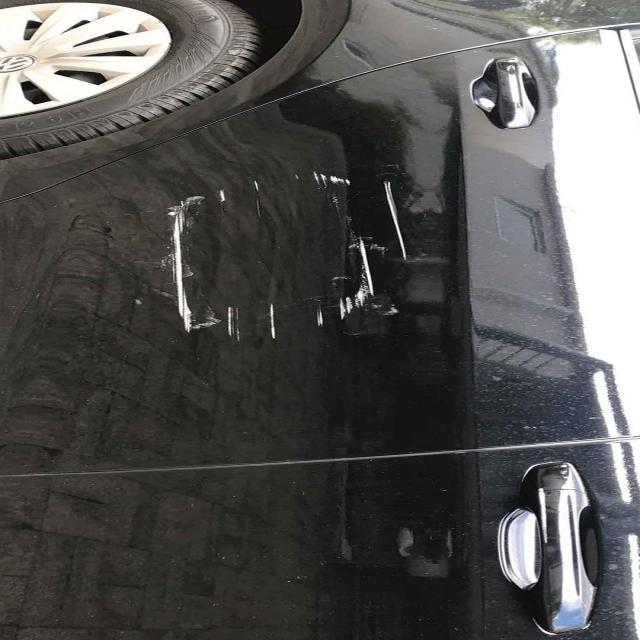scratch: (150, 176, 238, 340), (365, 171, 438, 270), (302, 272, 395, 348), (288, 154, 366, 207), (261, 290, 295, 352)
